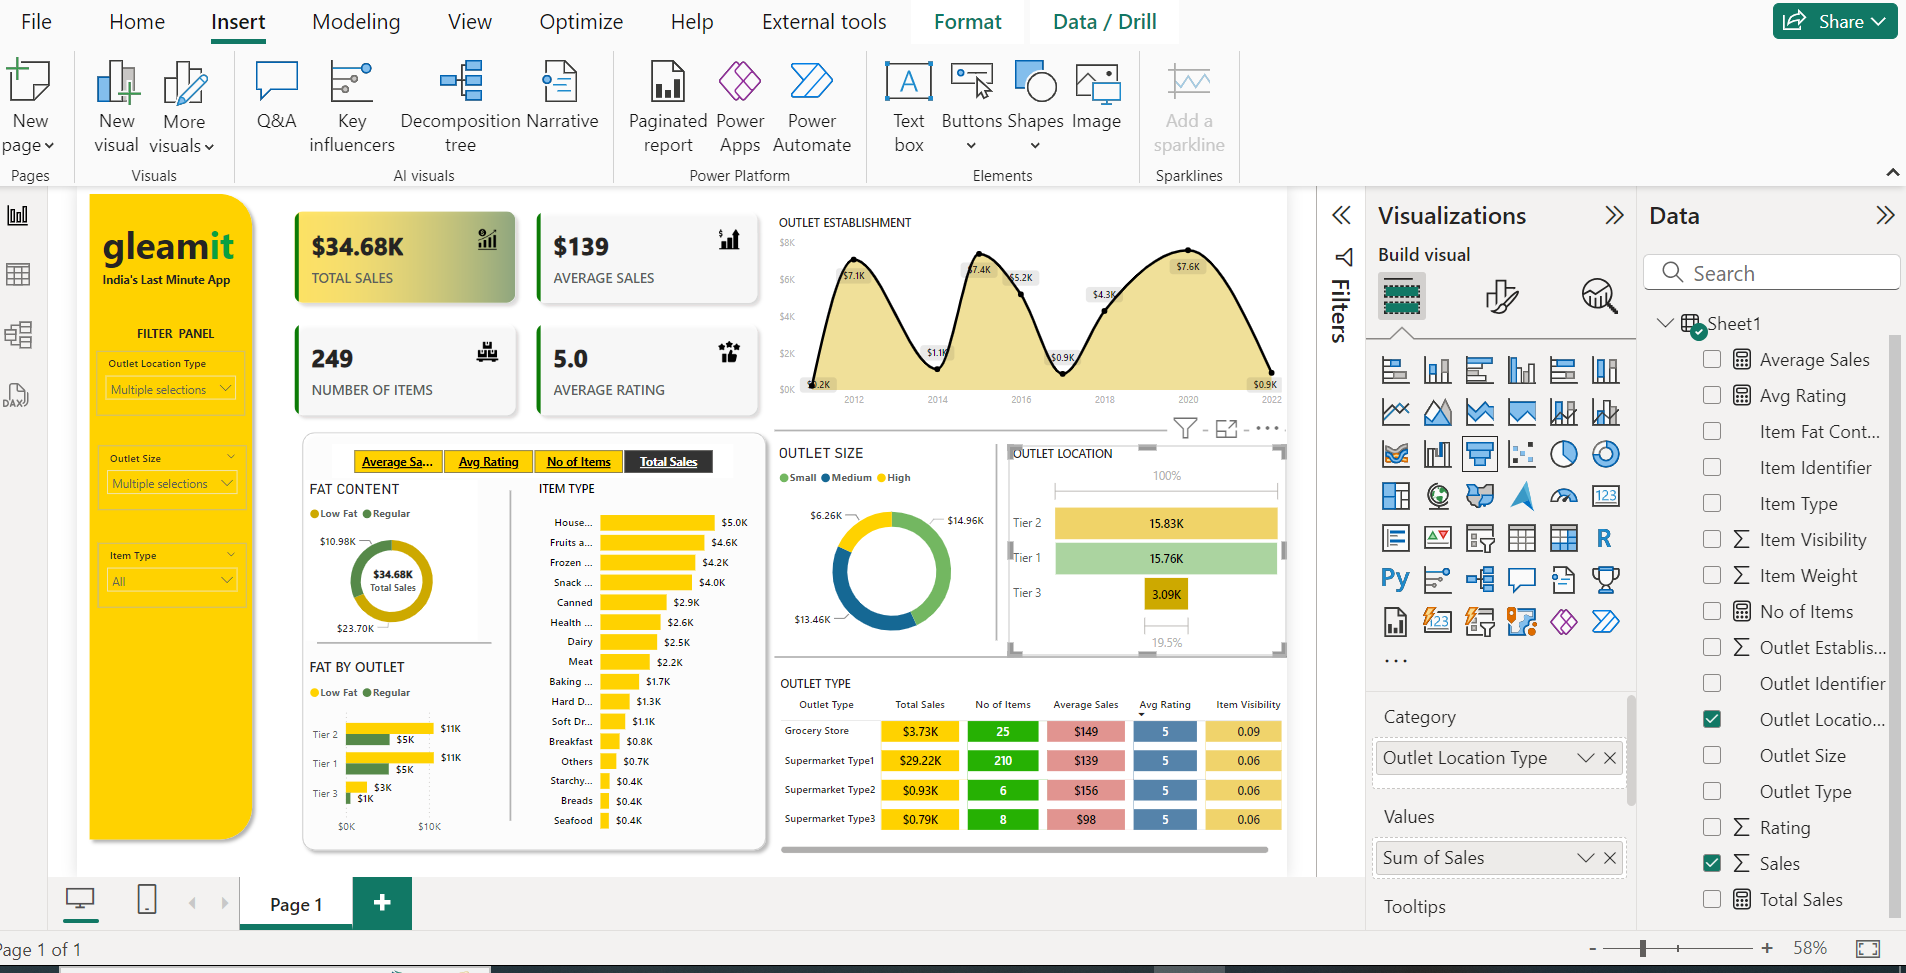

The dashboard page shown, as its layout file describes it:
{"tool":"powerbi","page":{"name":"Page 1","canvas":[1400,800],"ordinal":0},"visuals":[{"type":"shape","box":[5.2,0,206.7,765.9],"z":0},{"type":"textbox","box":[24.3,33,191,79.9],"z":1000},{"type":"textbox","box":[24.3,93.8,191,38.2],"z":2000},{"type":"cardVisual","fields":{"Data":["Sheet1.Total Sales","Sheet1.Average Sales","Sheet1.No of Items","Sheet1.Avg Rating"]},"box":[235.3,11.8,570.6,270.6],"z":3000},{"type":"shape","box":[251,276.5,554.9,502],"z":4000},{"type":"donutChart","title":"FAT CONTENT","fields":{"Y":["Sheet1.Total Sales"],"Category":["Sheet1.Item Fat Content"]},"box":[264.7,341.2,200,186.3],"z":5000},{"type":"slicer","fields":{"Values":["Matrics.Matrics"]},"box":[296.1,298,464.7,39.2],"z":6000},{"type":"cardVisual","fields":{"Data":["Sheet1.Total Sales"]},"box":[302,421.6,127.5,68.6],"z":7000},{"type":"clusteredBarChart","title":"FAT BY OUTLET","fields":{"Y":["Sheet1.Total Sales"],"Series":["Sheet1.Item Fat Content"],"Category":["Sheet1.Outlet Location Type"]},"box":[264.7,545.1,215.7,213.7],"z":8000},{"type":"shape","box":[278.4,511.8,202,33.3],"z":9000},{"type":"shape","box":[494.1,352.9,13.7,382.4],"z":10000},{"type":"barChart","title":"ITEM TYPE","fields":{"Y":["Sheet1.Total Sales"],"Category":["Sheet1.Item Type"]},"box":[529.4,341.2,252.9,417.6],"z":11000},{"type":"lineChart","title":"OUTLET ESTABLISHMENT","fields":{"Y":["Sheet1.Total Sales"],"Category":["Sheet1.Outlet Establishment Year"]},"box":[807.5,33,592.2,231],"z":12000},{"type":"shape","box":[807.5,265.7,592.2,34.7],"z":13000},{"type":"donutChart","title":"OUTLET SIZE","fields":{"Y":["Sheet1.Total Sales"],"Category":["Sheet1.Outlet Size"]},"box":[807.5,298.7,270.9,246.6],"z":14000},{"type":"shape","box":[1038.5,298.7,52.1,227.5],"z":15000},{"type":"funnel","title":"OUTLET LOCATION","fields":{"Y":["Sum(Sheet1.Sales)"],"Category":["Sheet1.Outlet Location Type"]},"box":[1078.5,300.4,321.3,243.1],"z":16000},{"type":"shape","box":[807.5,527.9,592.2,34.7],"z":17000},{"type":"pivotTable","title":"OUTLET TYPE","fields":{"Rows":["Sheet1.Outlet Type"],"Values":["Sheet1.Total Sales","Sheet1.No of Items","Sheet1.Average Sales","Sheet1.Avg Rating","Avg(Sheet1.Item Visibility)"]},"box":[809.3,566.1,590.5,211.9],"z":18000},{"type":"slicer","fields":{"Values":["Sheet1.Outlet Location Type"]},"box":[22.6,191,171.9,74.7],"z":18001},{"type":"slicer","fields":{"Values":["Sheet1.Outlet Size"]},"box":[24.3,300.4,171.9,74.7],"z":18002},{"type":"slicer","fields":{"Values":["Sheet1.Item Type"]},"box":[24.3,413.3,171.9,74.7],"z":18003},{"type":"textbox","box":[64.3,156.3,132,34.7],"z":18004}]}

Visuals, with their boxes on the page's 1400x800 design canvas (x1, y1, x2, y2). These are canvas units, not pixel positions in the 1906x973 screenshot, which may show the page scaled, cropped or inside an application window:
shape: 5 0 212 766
textbox: 24 33 215 113
textbox: 24 94 215 132
cardVisual - Sheet1.Total Sales x Sheet1.Average Sales: 235 12 806 282
shape: 251 276 806 778
"FAT CONTENT" donutChart: 265 341 465 528
slicer - Matrics.Matrics: 296 298 761 337
cardVisual - Sheet1.Total Sales: 302 422 430 490
"FAT BY OUTLET" clusteredBarChart: 265 545 480 759
shape: 278 512 480 545
shape: 494 353 508 735
"ITEM TYPE" barChart: 529 341 782 759
"OUTLET ESTABLISHMENT" lineChart: 808 33 1400 264
shape: 808 266 1400 300
"OUTLET SIZE" donutChart: 808 299 1078 545
shape: 1038 299 1091 526
"OUTLET LOCATION" funnel: 1078 300 1400 544
shape: 808 528 1400 563
"OUTLET TYPE" pivotTable: 809 566 1400 778
slicer - Sheet1.Outlet Location Type: 23 191 194 266
slicer - Sheet1.Outlet Size: 24 300 196 375
slicer - Sheet1.Item Type: 24 413 196 488
textbox: 64 156 196 191
